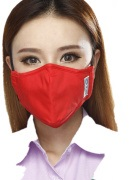face_mask: (12, 14, 94, 126)
